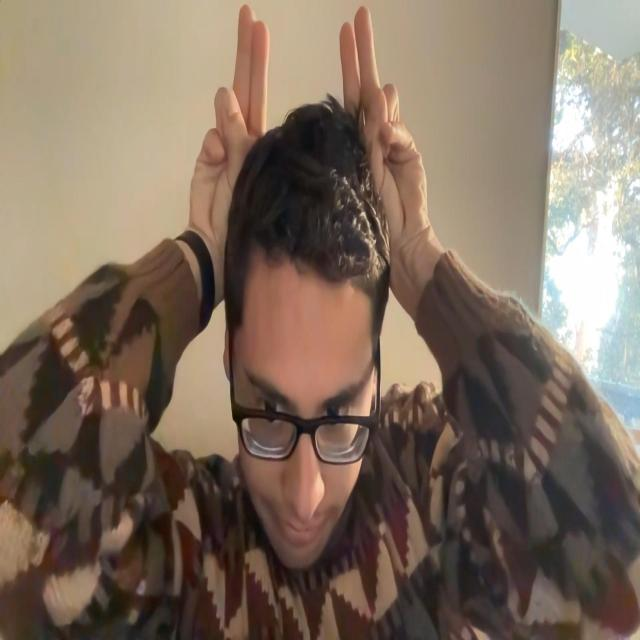face: (231, 283, 383, 571)
